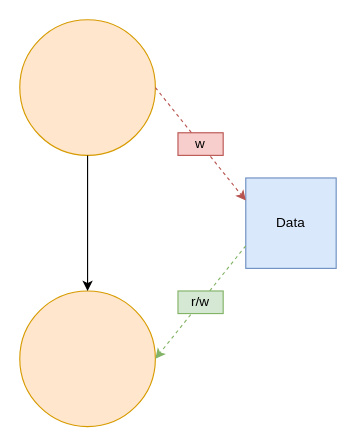
Image size: 356x446. Some labels were removed from this diagram. The shapes that lost their labels are listed below. From the top down, each one's centre as x and y in pixels, then its label:
At [87,87]: "Kernel A".
At [87,358]: "Kernel B".
